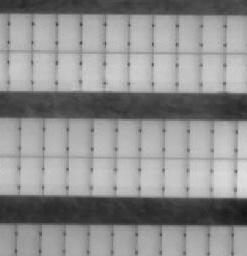solar: (198, 51, 227, 93), (174, 51, 203, 93), (150, 51, 179, 93), (125, 51, 154, 93), (101, 50, 130, 92), (78, 50, 107, 92), (54, 50, 83, 92), (30, 50, 59, 92), (5, 50, 34, 92), (16, 116, 45, 158), (40, 116, 69, 158), (65, 116, 94, 158), (90, 118, 119, 160), (114, 117, 143, 159), (137, 117, 166, 159), (161, 117, 190, 159), (186, 117, 215, 159), (209, 117, 238, 159), (209, 156, 238, 198), (185, 156, 214, 198), (161, 156, 190, 198), (137, 156, 166, 198), (112, 156, 141, 198), (89, 156, 118, 198), (65, 156, 94, 198), (40, 156, 69, 198), (16, 156, 45, 198), (6, 12, 35, 52), (30, 12, 59, 52), (54, 12, 83, 52), (78, 12, 107, 52), (102, 12, 131, 52), (126, 13, 155, 53), (151, 12, 180, 52), (175, 13, 204, 53), (198, 14, 227, 54)
